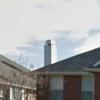Chimney: (40, 32, 59, 68)
